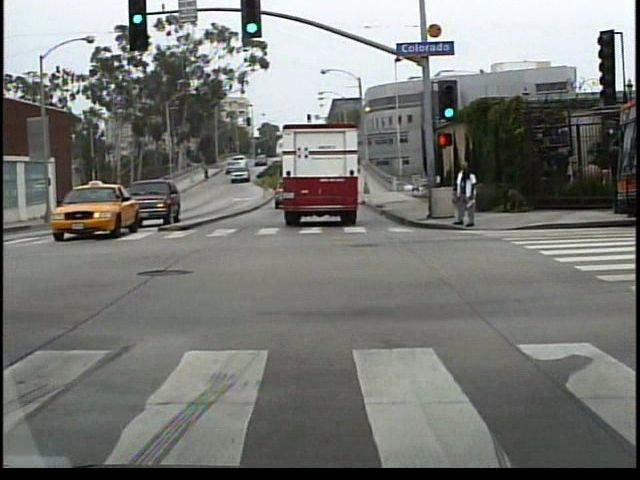person: (453, 160, 480, 230)
